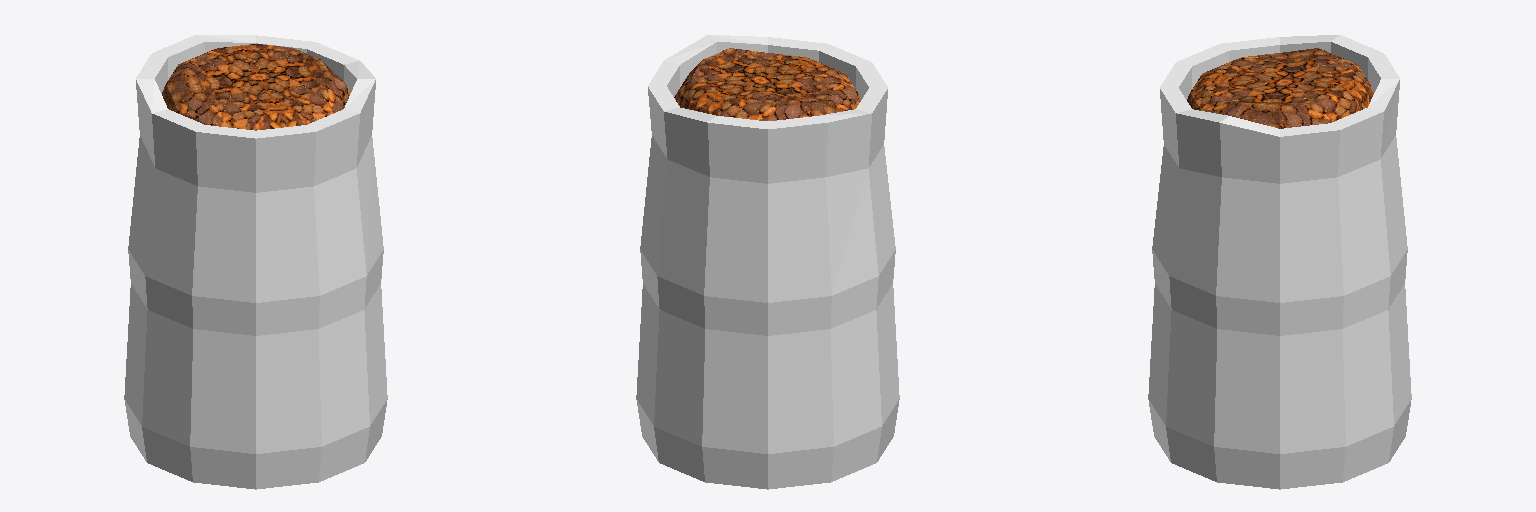
3 renders of one model, left to right at view 1: azimuth 30°, elevation 25°; view 2: azimuth 150°, elevation 25°; view 3: azimuth 270°, elevation 25°, orthographic.
Parts seen in each view (by area): view 1: Form10; view 2: Form10; view 3: Form10.
Part boxes in pixels (x1,y1,x2,y2): Form10: (124,35,387,489); Form10: (636,35,899,489); Form10: (1148,35,1411,489).
Bounding box in the file's own units: 2.49 × 3.76 × 2.49.
2 materials, 1 textured.